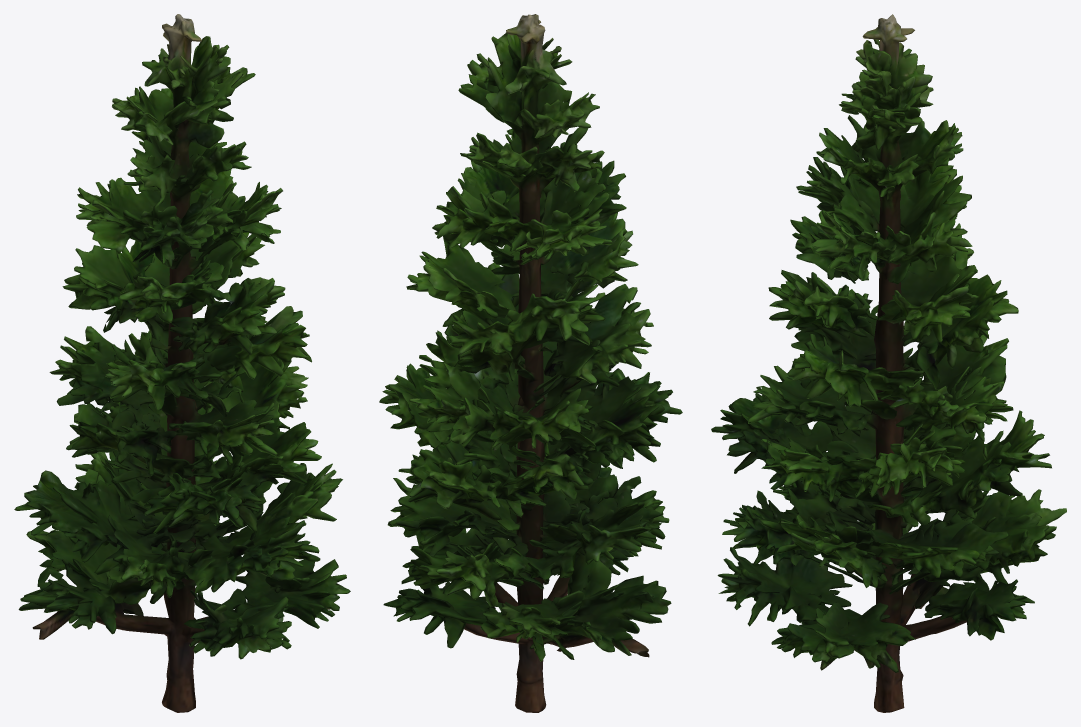
The model's file is nature-tree-cypress.glb.
The picture shows the model from 3 angles, left to right: view 1: azimuth 30°, elevation 25°; view 2: azimuth 150°, elevation 25°; view 3: azimuth 270°, elevation 25°; orthographic projection.
Visible parts, largest first — view 1: tripo_node_a4d615b7-def3-491c-9764-fed042aa505c; view 2: tripo_node_a4d615b7-def3-491c-9764-fed042aa505c; view 3: tripo_node_a4d615b7-def3-491c-9764-fed042aa505c.
Boxes of the visible parts, x1,y1,x2,y2 form: tripo_node_a4d615b7-def3-491c-9764-fed042aa505c: (14,14,350,712); tripo_node_a4d615b7-def3-491c-9764-fed042aa505c: (379,14,682,712); tripo_node_a4d615b7-def3-491c-9764-fed042aa505c: (711,14,1066,712).
Size of the model in its own units: 3.81 by 9 by 4.18.
Materials: 1 (1 with a texture image).
